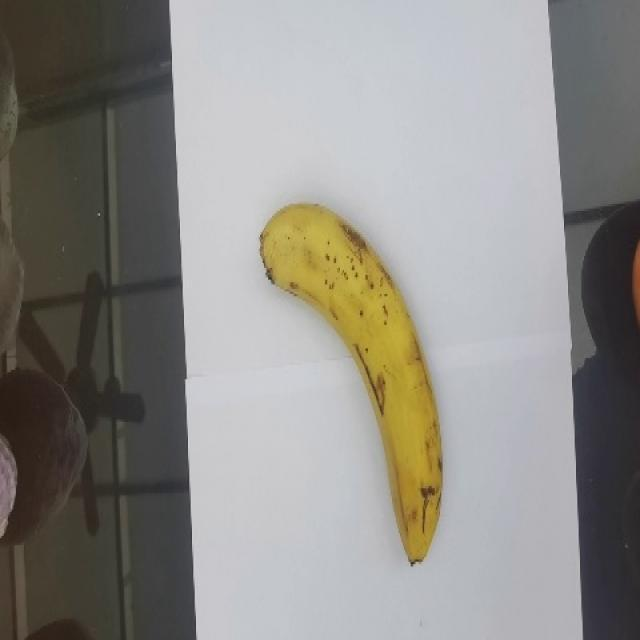Banana: (258, 201, 443, 565)
